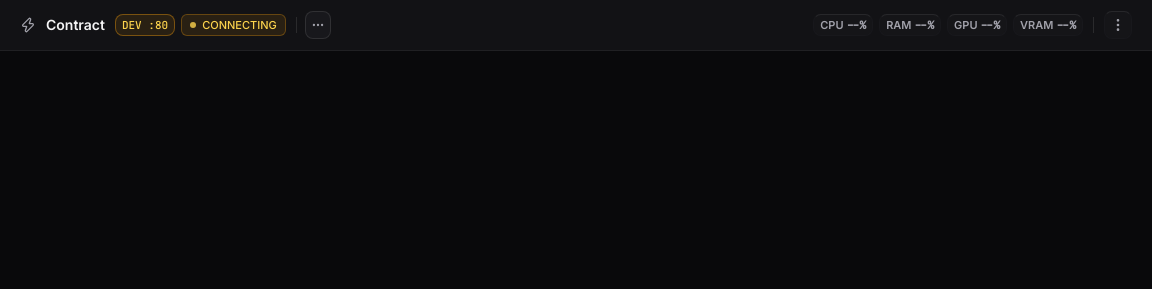
it: REQ-346 header expand action overlay contract › [REQ-346/AC-4] rapid open/close/open of two different header menus does not leave two panels open
The width and height of the screenshot is (1152, 289).
Click the button with id "workflow-actions-btn" at (318, 25), box [305, 11, 331, 39]
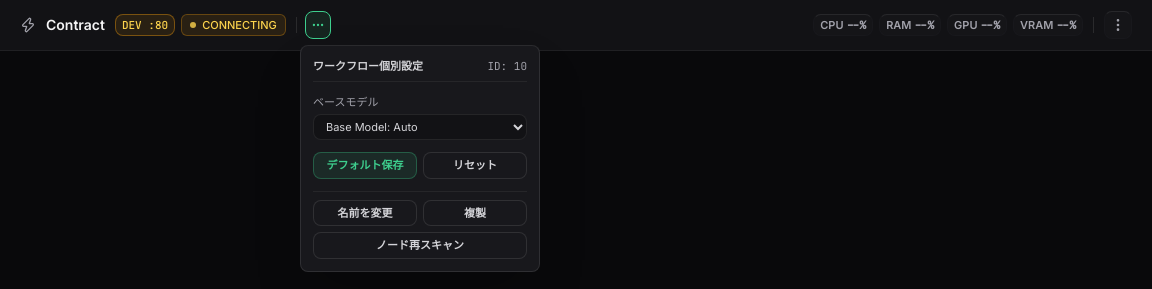
Press the mouse on the button with test id "header-kebab-menu-button" at (1118, 25), box [1104, 11, 1132, 39]
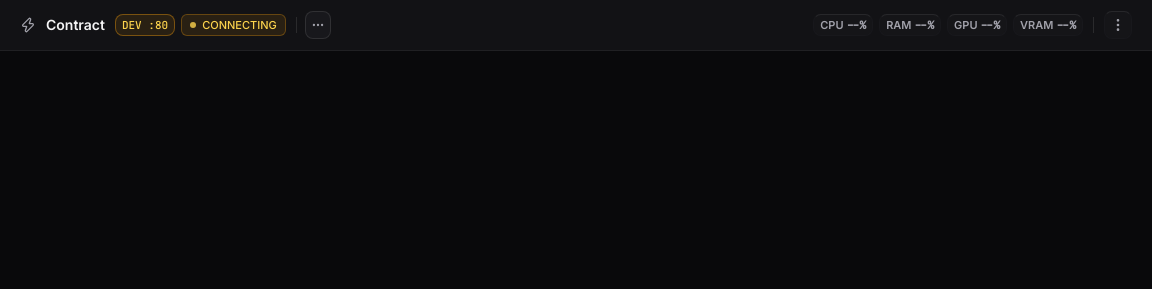
Click the button with test id "header-kebab-menu-button" at (1118, 25), box [1104, 11, 1132, 39]
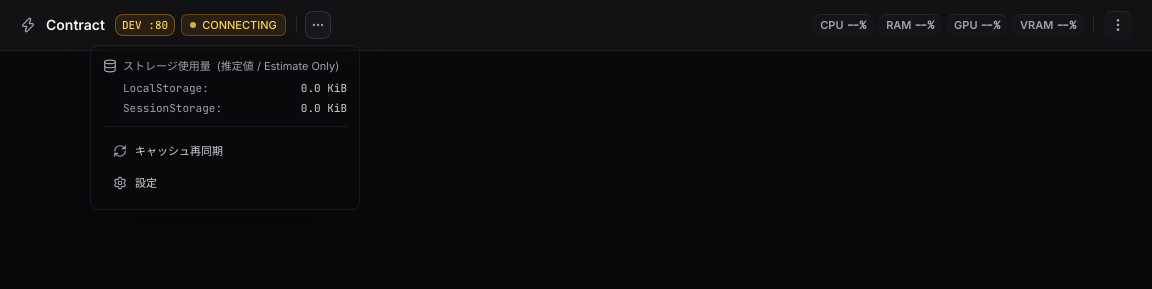
Expected: the element with test id "header-kebab-dropdown" is shown, [90, 45, 360, 210]
